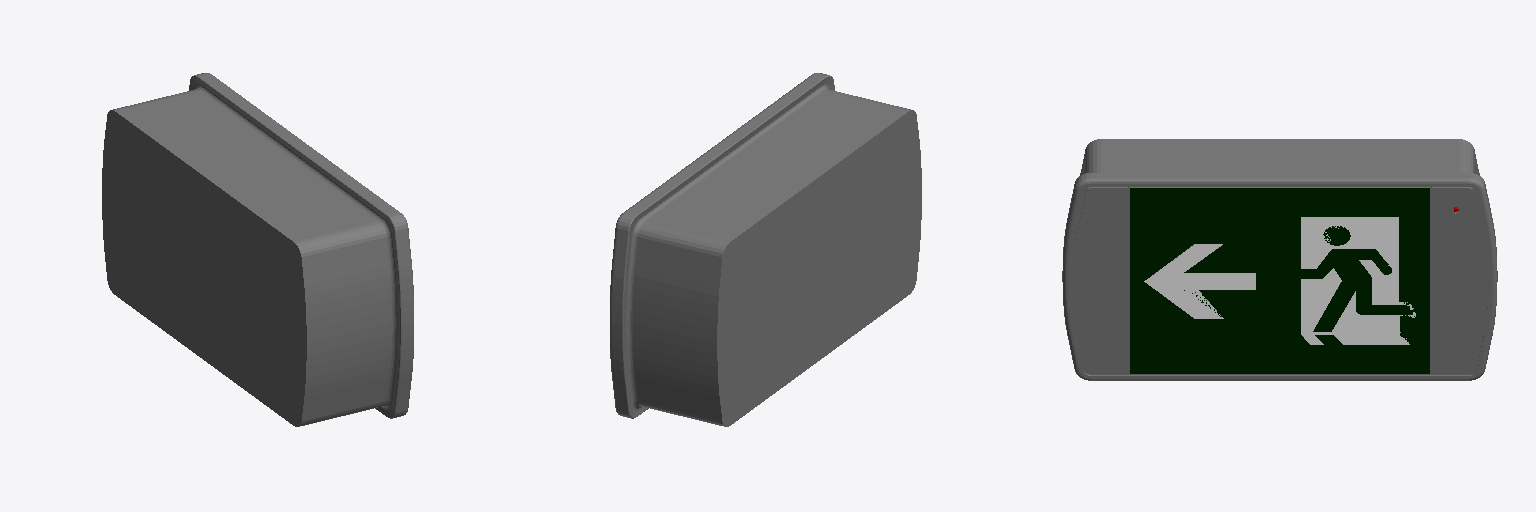
Rendered from exit.obj.
3 renders of one model, left to right at view 1: azimuth 30°, elevation 25°; view 2: azimuth 150°, elevation 25°; view 3: azimuth 270°, elevation 25°, orthographic.
Parts seen in each view (by area): view 1: Cube.001; view 2: Cube.001; view 3: Cube.001.
Boxes of the visible parts, x1=… form: Cube.001: x1=102, y1=73, x2=413, y2=426; Cube.001: x1=610, y1=73, x2=921, y2=426; Cube.001: x1=1062, y1=139, x2=1497, y2=380.
Size of the model in its own units: 0.1507 by 0.2821 by 0.5499.